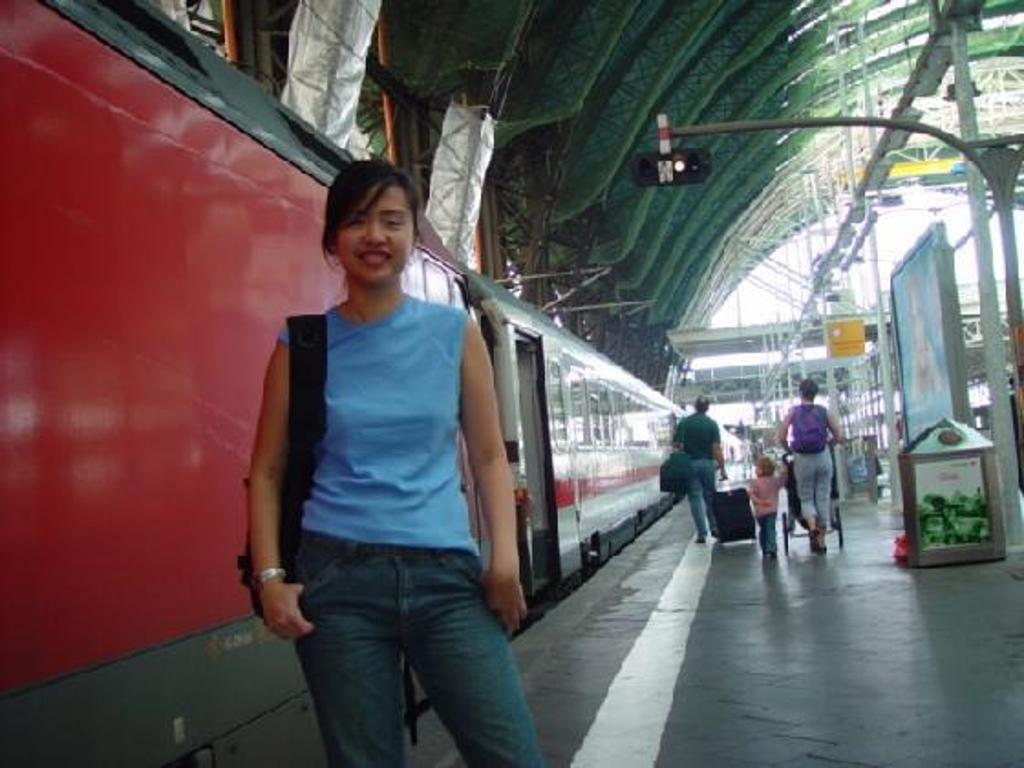face: (338, 190, 406, 286)
